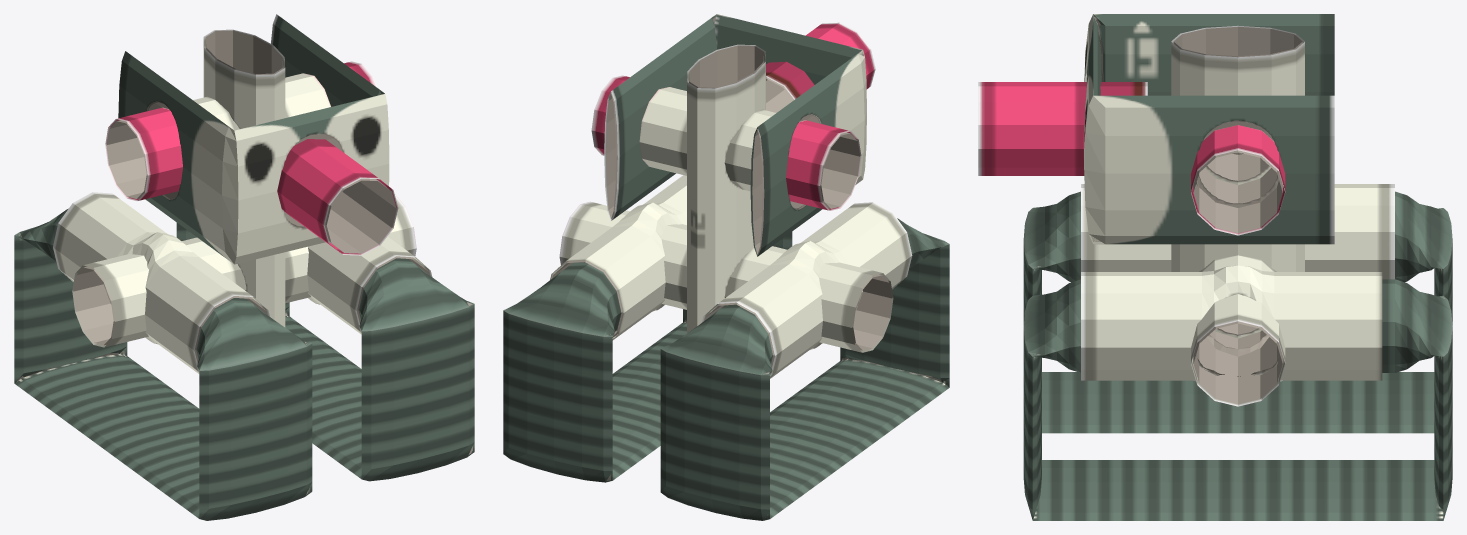
The model's file is penck.glb.
3 views of the same model, side by side, from view 1: azimuth 30°, elevation 25°; view 2: azimuth 150°, elevation 25°; view 3: azimuth 270°, elevation 25° (orthographic). The views are drawn at different scales.
Visible parts, largest first — view 1: P59 Dr.ペンク_脚・履帯_右キャタピラ [短冊5-4], P60 Dr.ペンク_脚・履帯_左キャタピラ [短冊5-5], P44 Dr.ペンク_頭_顔・左右の側面 [短冊4-1], P51 Dr.ペンク_脚・履帯_右の上部受けパイプ [短冊4-3], P58 Dr.ペンク_頭_赤い鼻・砲口 [短冊5-3], P56 Dr.ペンク_胴体_履帯ユニットの接続軸 [短冊5-1], P48 Dr.ペンク_胴体_中央支柱 [短冊4-2], P57 Dr.ペンク_頭_左右の接続軸 [短冊5-2], P53 Dr.ペンク_脚・履帯_左の上部受けパイプ [短冊4-4]; view 2: P59 Dr.ペンク_脚・履帯_右キャタピラ [短冊5-4], P60 Dr.ペンク_脚・履帯_左キャタピラ [短冊5-5], P44 Dr.ペンク_頭_顔・左右の側面 [短冊4-1], P48 Dr.ペンク_胴体_中央支柱 [短冊4-2], P51 Dr.ペンク_脚・履帯_右の上部受けパイプ [短冊4-3], P57 Dr.ペンク_頭_左右の接続軸 [短冊5-2], P56 Dr.ペンク_胴体_履帯ユニットの接続軸 [短冊5-1], P53 Dr.ペンク_脚・履帯_左の上部受けパイプ [短冊4-4], P58 Dr.ペンク_頭_赤い鼻・砲口 [短冊5-3]; view 3: P44 Dr.ペンク_頭_顔・左右の側面 [短冊4-1], P60 Dr.ペンク_脚・履帯_左キャタピラ [短冊5-5], P59 Dr.ペンク_脚・履帯_右キャタピラ [短冊5-4], P53 Dr.ペンク_脚・履帯_左の上部受けパイプ [短冊4-4], P48 Dr.ペンク_胴体_中央支柱 [短冊4-2], P58 Dr.ペンク_頭_赤い鼻・砲口 [短冊5-3], P51 Dr.ペンク_脚・履帯_右の上部受けパイプ [短冊4-3], P56 Dr.ペンク_胴体_履帯ユニットの接続軸 [短冊5-1], P57 Dr.ペンク_頭_左右の接続軸 [短冊5-2].
Part boxes in pixels (x1,y1,x2,y2): P59 Dr.ペンク_脚・履帯_右キャタピラ [短冊5-4]: (14,208,312,520); P60 Dr.ペンク_脚・履帯_左キャタピラ [短冊5-5]: (176,222,474,481); P44 Dr.ペンク_頭_顔・左右の側面 [短冊4-1]: (118,14,389,264); P51 Dr.ペンク_脚・履帯_右の上部受けパイプ [短冊4-3]: (53,192,269,373); P58 Dr.ペンク_頭_赤い鼻・砲口 [短冊5-3]: (277,139,398,255); P56 Dr.ペンク_胴体_履帯ユニットの接続軸 [短冊5-1]: (72,194,416,347); P48 Dr.ペンク_胴体_中央支柱 [短冊4-2]: (203,29,285,327); P57 Dr.ペンク_頭_左右の接続軸 [短冊5-2]: (105,61,376,200); P53 Dr.ペンク_脚・履帯_左の上部受けパイプ [短冊4-4]: (307,236,432,334); P59 Dr.ペンク_脚・履帯_右キャタピラ [短冊5-4]: (660,218,949,520); P60 Dr.ペンク_脚・履帯_左キャタピラ [短冊5-5]: (503,232,792,482); P44 Dr.ペンク_頭_顔・左右の側面 [短冊4-1]: (604,14,866,256); P48 Dr.ペンク_胴体_中央支柱 [短冊4-2]: (687,44,765,333); P51 Dr.ペンク_脚・履帯_右の上部受けパイプ [短冊4-3]: (701,202,912,378); P57 Dr.ペンク_頭_左右の接続軸 [短冊5-2]: (591,75,861,210); P56 Dr.ペンク_胴体_履帯ユニットの接続軸 [短冊5-1]: (559,201,893,352); P53 Dr.ペンク_脚・履帯_左の上部受けパイプ [短冊4-4]: (550,175,686,340); P58 Dr.ペンク_頭_赤い鼻・砲口 [短冊5-3]: (766,22,875,112); P44 Dr.ペンク_頭_顔・左右の側面 [短冊4-1]: (1084,14,1334,244); P60 Dr.ペンク_脚・履帯_左キャタピラ [短冊5-5]: (1023,279,1452,520); P59 Dr.ペンク_脚・履帯_右キャタピラ [短冊5-4]: (1023,191,1452,433); P53 Dr.ペンク_脚・履帯_左の上部受けパイプ [短冊4-4]: (1081,265,1382,380); P48 Dr.ペンク_胴体_中央支柱 [短冊4-2]: (1171,25,1304,381); P58 Dr.ペンク_頭_赤い鼻・砲口 [短冊5-3]: (978,82,1147,175); P51 Dr.ペンク_脚・履帯_右の上部受けパイプ [短冊4-3]: (1081,184,1394,279); P56 Dr.ペンク_胴体_履帯ユニットの接続軸 [短冊5-1]: (1191,255,1285,406); P57 Dr.ペンク_頭_左右の接続軸 [短冊5-2]: (1191,125,1285,235).
Size of the model in its own units: 0.032 by 0.0377 by 0.0393.
Materials: 18 (18 with a texture image).
